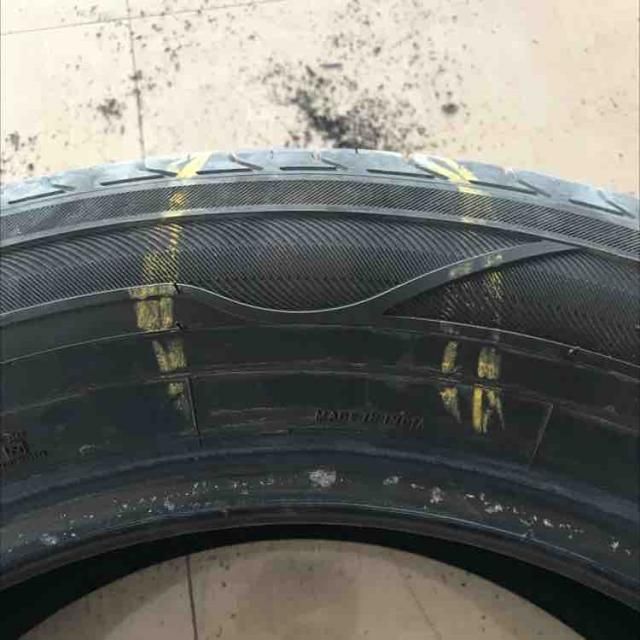Bulge: (180, 202, 442, 312)
